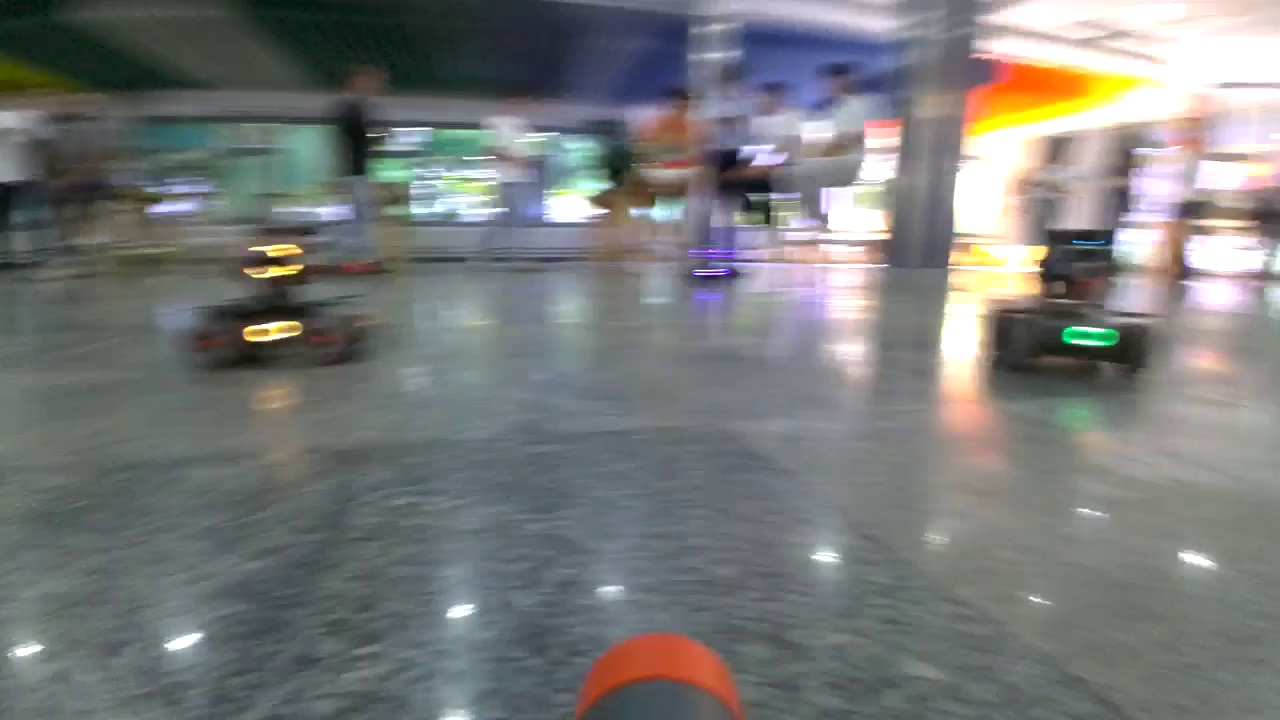robot: (191, 226, 364, 365), (987, 229, 1146, 367), (685, 243, 741, 283)
